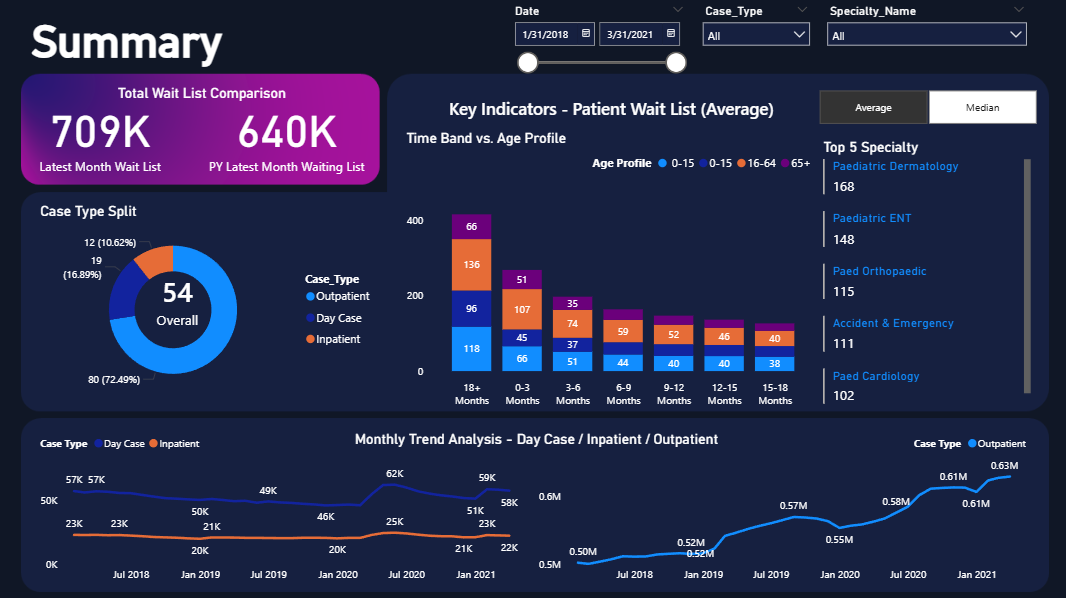

The dashboard page shown, as its layout file describes it:
{"tool":"powerbi","page":{"name":"Summary","canvas":[1280,720],"ordinal":0},"visuals":[{"type":"cardVisual","fields":{"Data":["_Calculations.Latest_Month_Wait_List"]},"box":[6,89,235.8,156.1],"z":0},{"type":"slicer","fields":{"Values":["Calculation_method.Calc_method1"]},"box":[953.8,101.5,307.7,53.8],"z":1000},{"type":"cardVisual","fields":{"Data":["_Calculations.PY_Latest_Month_Waiting_List"]},"box":[213.1,88.9,265.1,156.1],"z":2000},{"type":"donutChart","title":"Case Type Split","fields":{"Category":["All_Data.Case_Type"],"Y":["_Calculations.Calc_Method_Selector"]},"box":[47.2,242.4,411.5,234.2],"z":3000},{"type":"columnChart","title":"Time Band vs. Age Profile","fields":{"Y":["_Calculations.Calc_Method_Selector"],"Series":["All_Data.Age_Profile"],"Category":["All_Data.Time_Bands"]},"box":[481.9,155,497,338.3],"z":4000},{"type":"multiRowCard","title":"Top 5 Specialty","fields":{"Values":["_Calculations.Calc_Method_Selector","All_Data.Specialty_Name"]},"box":[978.5,166.2,256.9,326.2],"z":5000},{"type":"cardVisual","fields":{"Data":["All_Data.NoDataLeft"]},"box":[92.6,540.5,500.8,132.3],"z":5500},{"type":"lineChart","fields":{"Category":["All_Data.DateNew"],"Y":["Sum(All_Data.Total)"],"Series":["All_Data.Case_Type"]},"box":[47.2,509.1,592.1,193.6],"z":6000},{"type":"slicer","fields":{"Values":["All_Data.DateNew"]},"box":[603.4,0,226.1,242.4],"z":7000},{"type":"cardVisual","fields":{"Data":["_Calculations.NoDataRight"]},"box":[703,540.5,500.8,132.3],"z":7500},{"type":"lineChart","fields":{"Category":["All_Data.DateNew"],"Y":["Sum(All_Data.Total)"],"Series":["All_Data.Case_Type"]},"box":[640,509.2,595.4,193.8],"z":8000},{"type":"slicer","fields":{"Values":["All_Data.Case_Type"]},"box":[829.6,0,147.4,77.5],"z":9000},{"type":"slicer","fields":{"Values":["All_Data.Specialty_Name"]},"box":[978.9,0,257,77.5],"z":10000},{"type":"cardVisual","title":"Overall","fields":{"Data":["_Calculations.Calc_Method_Selector"]},"box":[151.2,296.7,126.6,126.6],"z":11000},{"type":"textbox","box":[35,15,308.3,81.7],"z":12000},{"type":"textbox","box":[98,96,291.2,78.1],"z":13000},{"type":"textbox","box":[100.2,508.4,1084.7,39.7],"z":14000},{"type":"cardVisual","title":"Overall","fields":{"Data":["_Calculations.DynamicTitle"]},"box":[483.8,96.4,495.1,66.1],"z":15000}]}

Visuals, with their boxes in screenshot pixels (x1, y1, x2, y2), scaled from the page's 1280x720 canvas onto the 1066x598 screenshot:
cardVisual - _Calculations.Latest_Month_Wait_List: {"x1": 5, "y1": 74, "x2": 201, "y2": 204}
slicer - Calculation_method.Calc_method1: {"x1": 794, "y1": 84, "x2": 1051, "y2": 129}
cardVisual - _Calculations.PY_Latest_Month_Waiting_List: {"x1": 177, "y1": 74, "x2": 398, "y2": 203}
"Case Type Split" donutChart: {"x1": 39, "y1": 201, "x2": 382, "y2": 396}
"Time Band vs. Age Profile" columnChart: {"x1": 401, "y1": 129, "x2": 815, "y2": 410}
"Top 5 Specialty" multiRowCard: {"x1": 815, "y1": 138, "x2": 1029, "y2": 409}
cardVisual - All_Data.NoDataLeft: {"x1": 77, "y1": 449, "x2": 494, "y2": 559}
lineChart - All_Data.DateNew x Sum(All_Data.Total): {"x1": 39, "y1": 423, "x2": 532, "y2": 584}
slicer - All_Data.DateNew: {"x1": 503, "y1": 0, "x2": 691, "y2": 201}
cardVisual - _Calculations.NoDataRight: {"x1": 585, "y1": 449, "x2": 1003, "y2": 559}
lineChart - All_Data.DateNew x Sum(All_Data.Total): {"x1": 533, "y1": 423, "x2": 1029, "y2": 584}
slicer - All_Data.Case_Type: {"x1": 691, "y1": 0, "x2": 814, "y2": 64}
slicer - All_Data.Specialty_Name: {"x1": 815, "y1": 0, "x2": 1029, "y2": 64}
"Overall" cardVisual: {"x1": 126, "y1": 246, "x2": 231, "y2": 352}
textbox: {"x1": 29, "y1": 12, "x2": 286, "y2": 80}
textbox: {"x1": 82, "y1": 80, "x2": 324, "y2": 145}
textbox: {"x1": 83, "y1": 422, "x2": 987, "y2": 455}
"Overall" cardVisual: {"x1": 403, "y1": 80, "x2": 815, "y2": 135}
